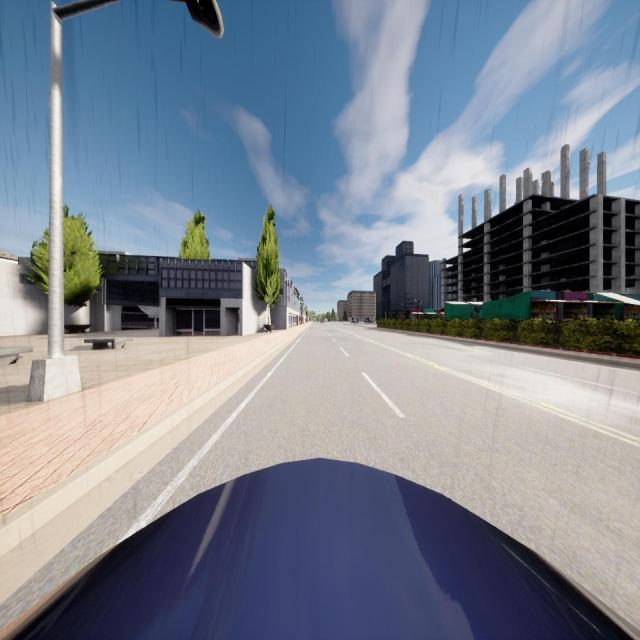Vehicle: (0, 457, 640, 640), (352, 319, 359, 324), (364, 319, 371, 323)
